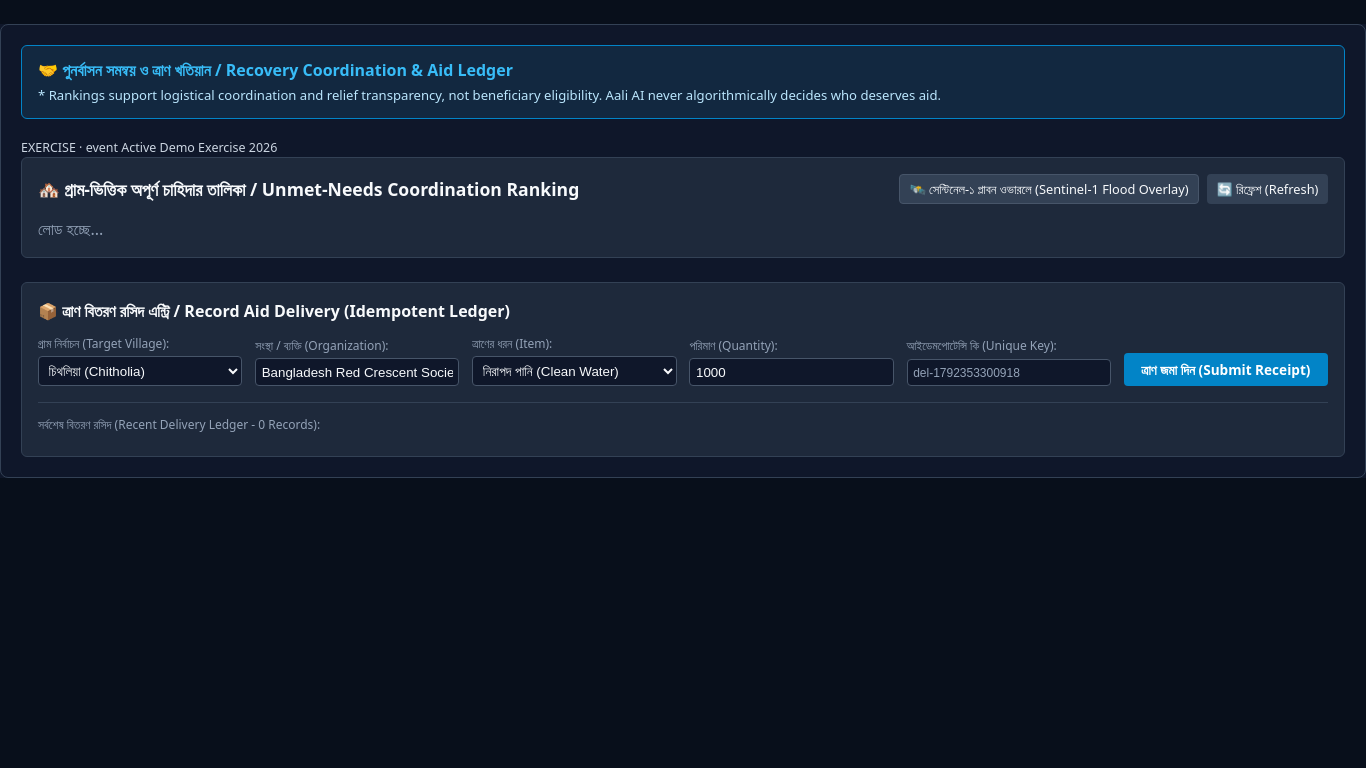
Test: RecoveryLedger Component › guards against duplicate aid deliveries using idempotency key
Step 1. Replace the text in the field showing "del-" below "আইডেমপোটেন্সি কি (Unique Key):" with "existing-duplicate-key" → (1009, 373), box x1=906 y1=359 x2=1111 y2=386
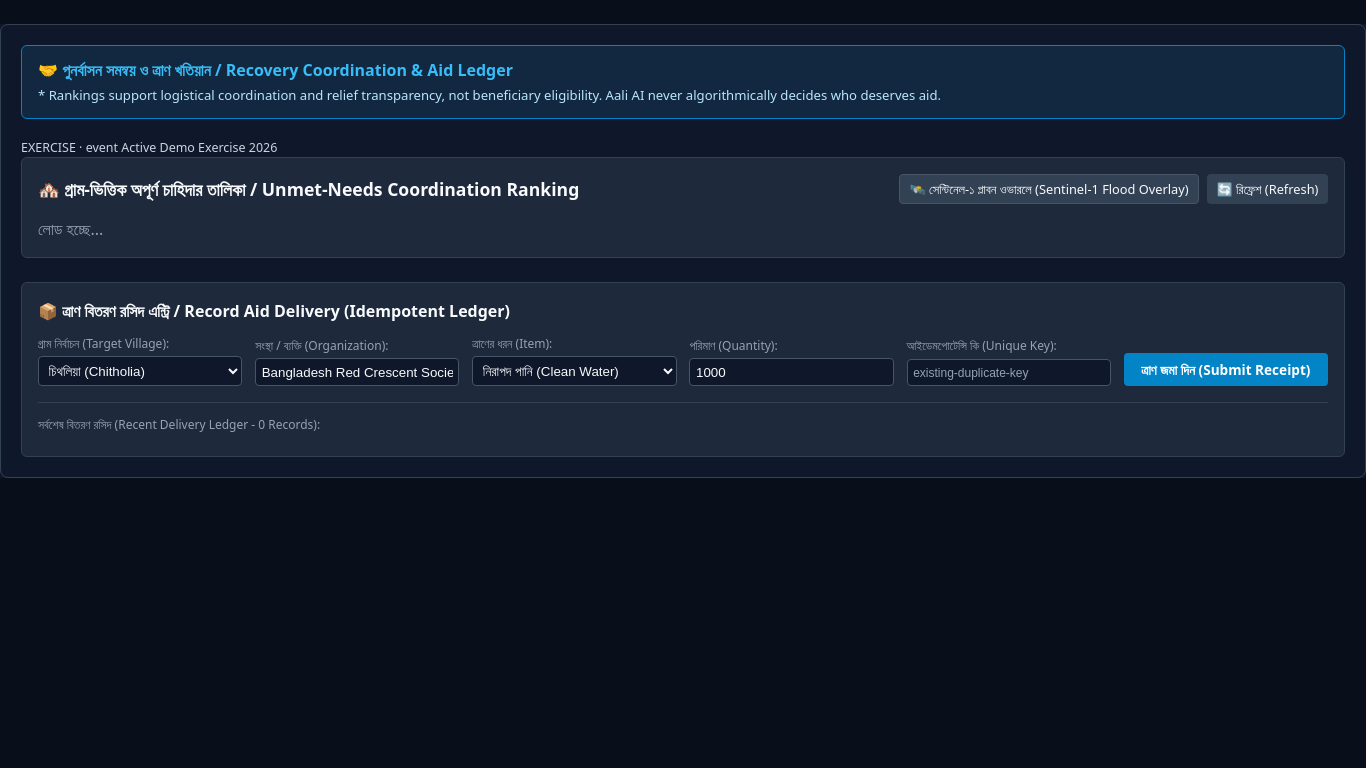
Step 2. Click the button "ত্রাণ জমা দিন (Submit Receipt)" → (1226, 370), box x1=1124 y1=353 x2=1328 y2=386
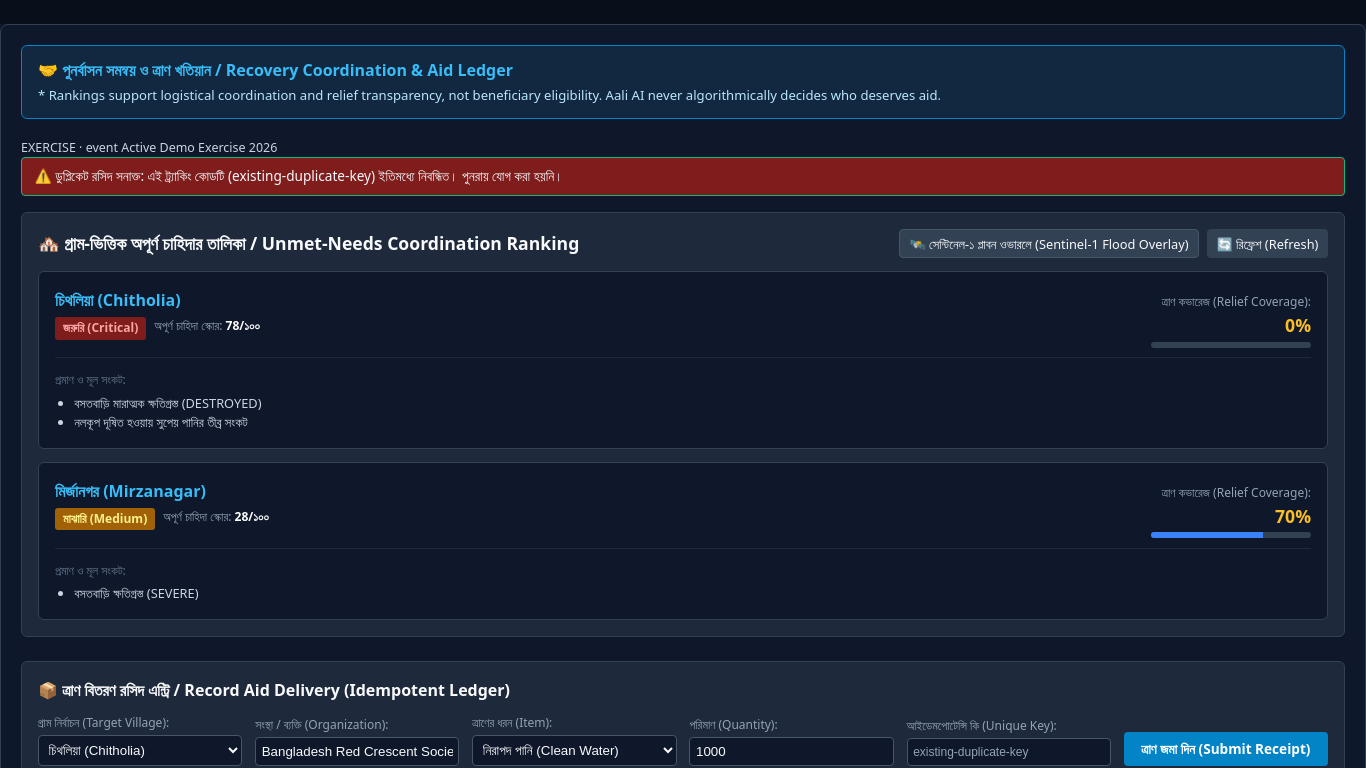
Expected: the text "ডুপ্লিকেট রসিদ সনাক্ত: এই ট্র্যাকিং কোডটি (existing-duplicate-key) ইতিমধ্যে নিবন্ধিত" is shown, x1=35 y1=166 x2=563 y2=185
